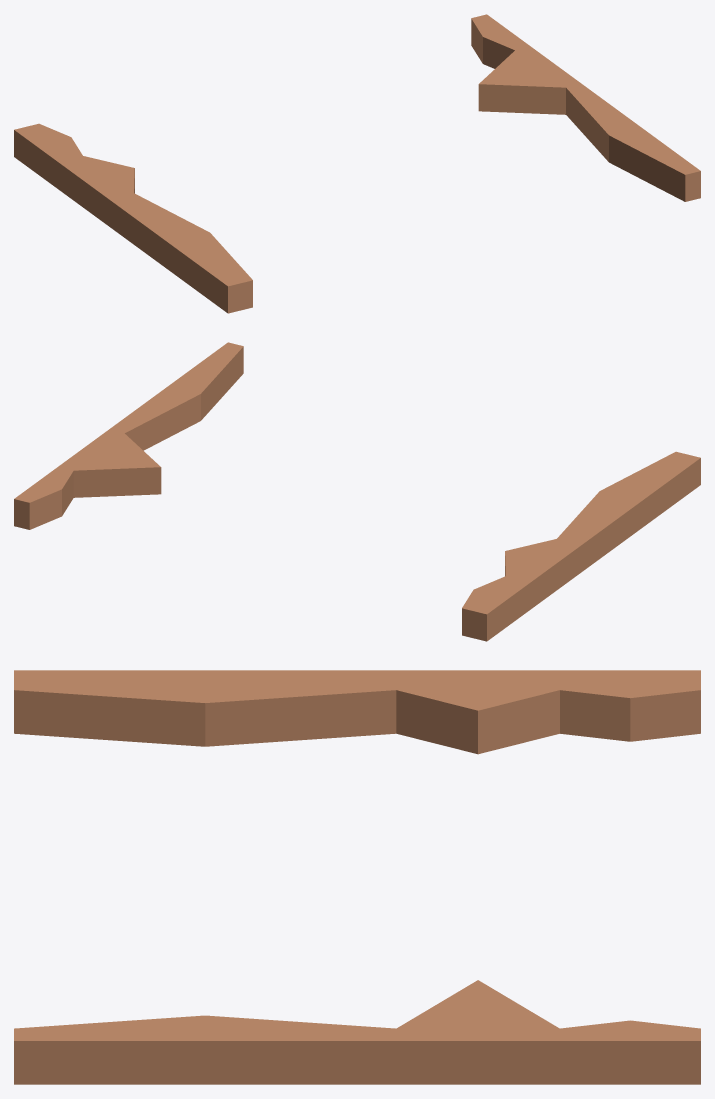
Rendered from shelfShortDestroyed.fbx.
3 views of the same model, one above another, from view 1: azimuth 30°, elevation 25°; view 2: azimuth 150°, elevation 25°; view 3: azimuth 270°, elevation 25° (orthographic). The views are drawn at different scales.
Visible parts, largest first — view 1: Cube; view 2: Cube; view 3: Cube.
Part boxes in pixels (box(x1,y1,x2,y2)): Cube: box(14, 14, 700, 313); Cube: box(14, 342, 700, 641); Cube: box(14, 670, 700, 1084).
Size of the model in its own units: 100 by 78.38 by 5.49.
